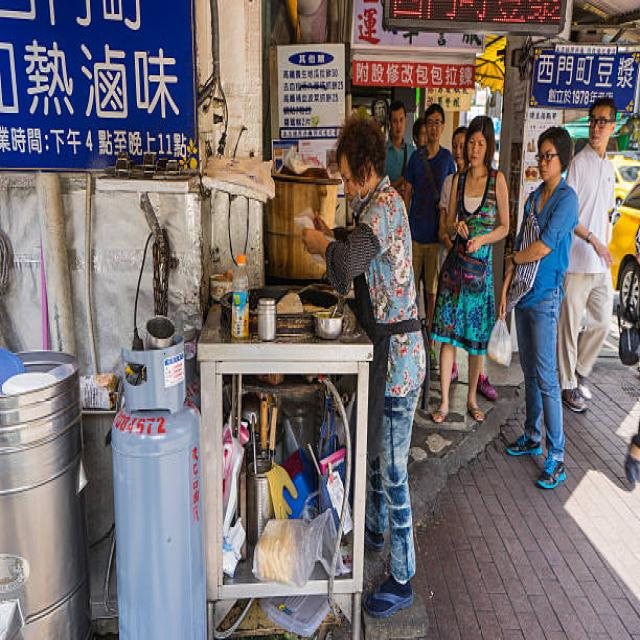Emperan: (189, 224, 378, 640)
